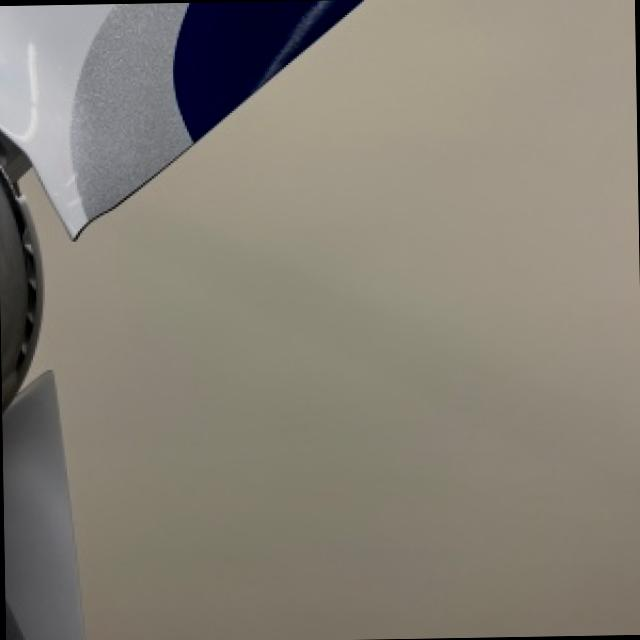healthy: (0, 131, 36, 407)
